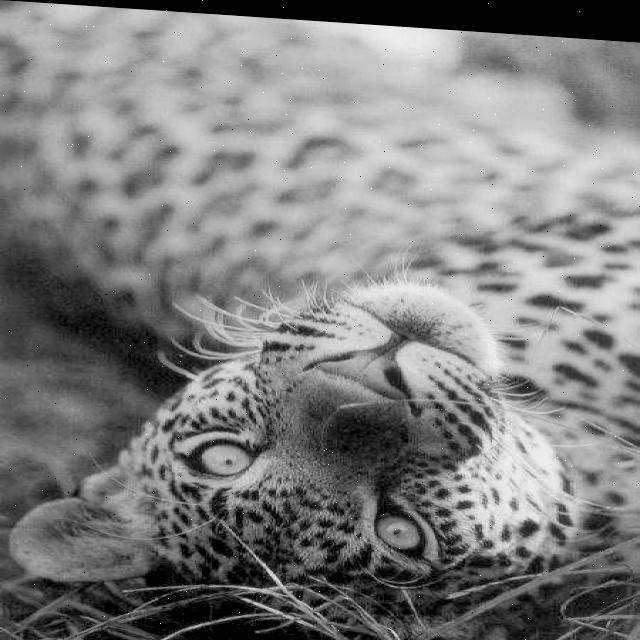Leopard: (6, 228, 628, 640)
